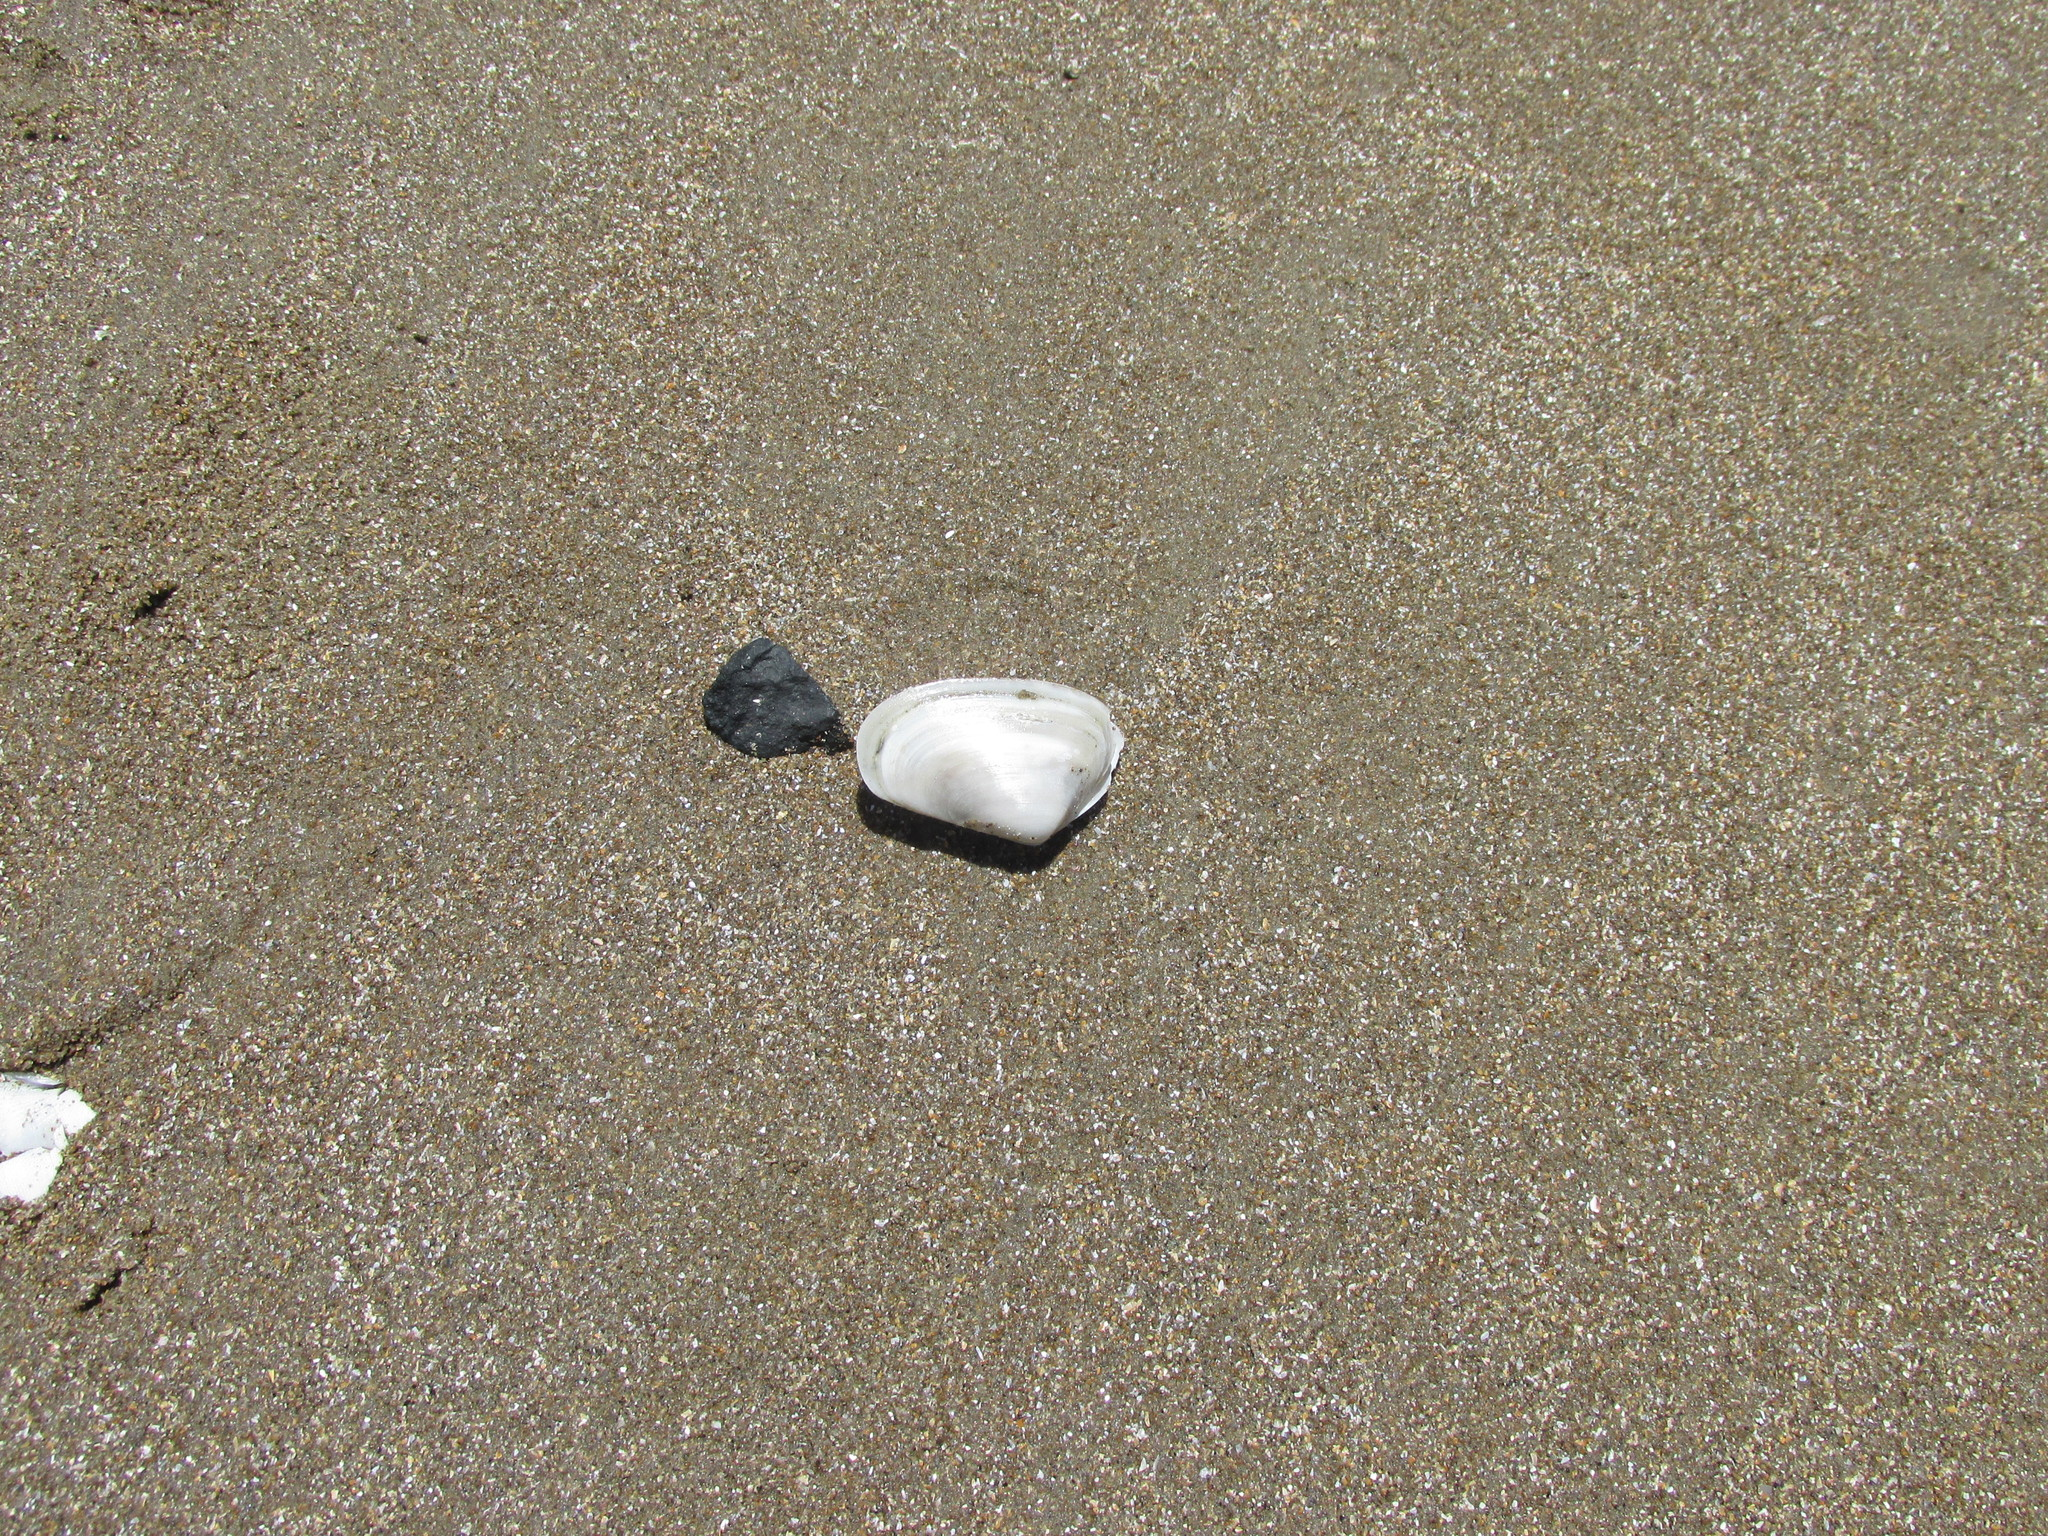tuatua: (851, 674, 1135, 857)
